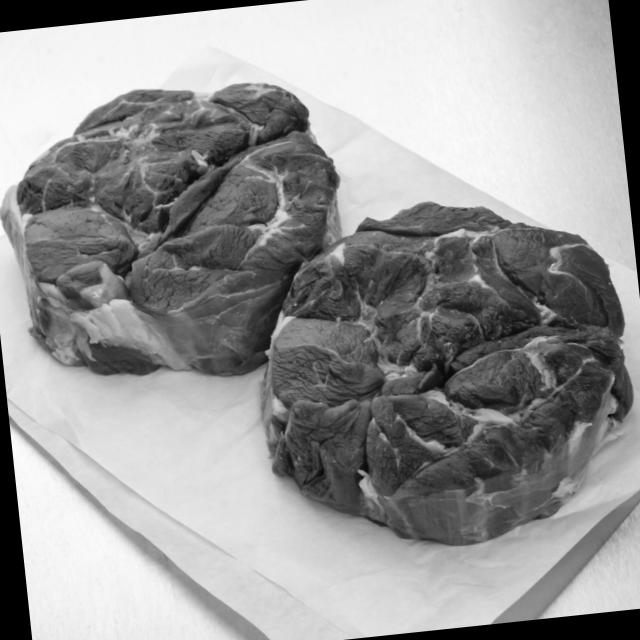ham hock: (245, 184, 640, 557), (0, 70, 349, 384)
